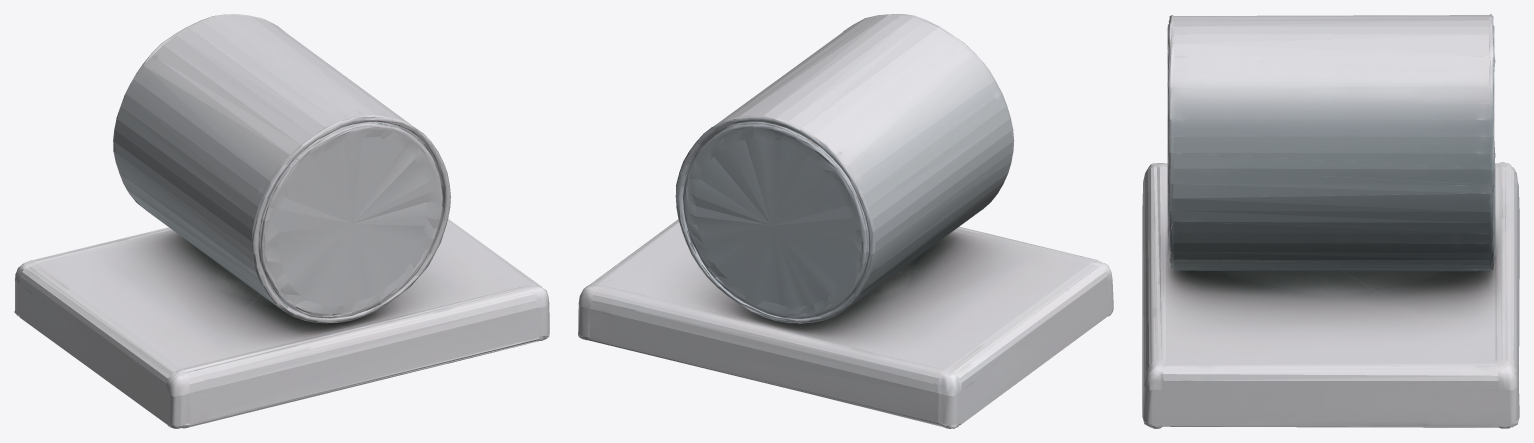
The model's file is generator.glb.
3 views of the same model, side by side, from view 1: azimuth 30°, elevation 25°; view 2: azimuth 150°, elevation 25°; view 3: azimuth 270°, elevation 25° (orthographic). The views are drawn at different scales.
Bounding box in the file's own units: 1 × 0.6582 × 0.7539.
Materials: 1 (1 with a texture image).
